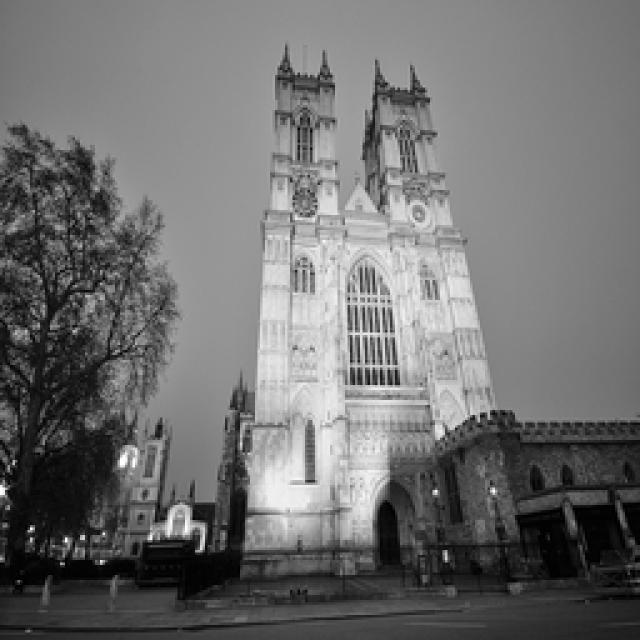Abbey: (234, 36, 509, 584)
